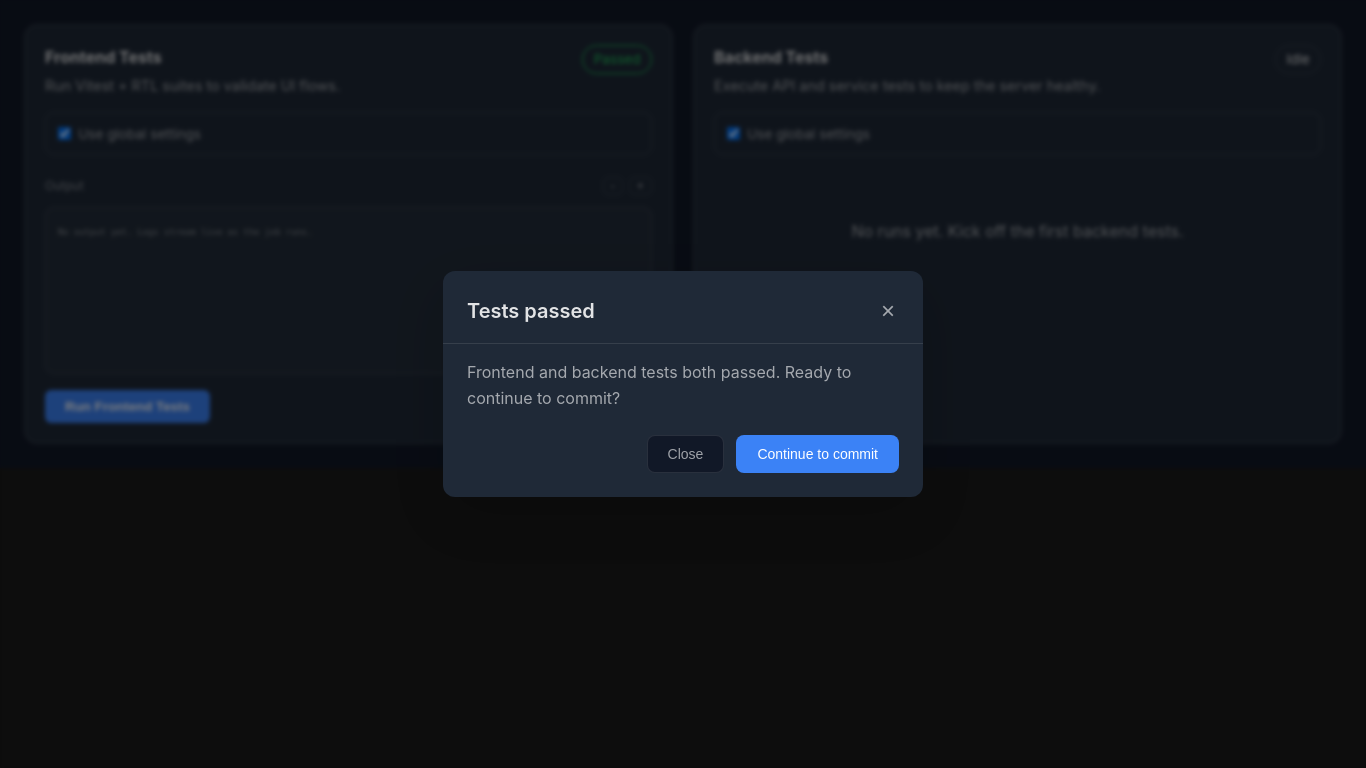
Test: TestTab › shows commit-ready banner after closing commit modal and reopens modal from banner action
The width and height of the screenshot is (1366, 768).
Expected: the heading "Tests passed" is shown, [467,296,595,326]
Click the button "Close" at x=686, y=454, box [647,435,724,473]
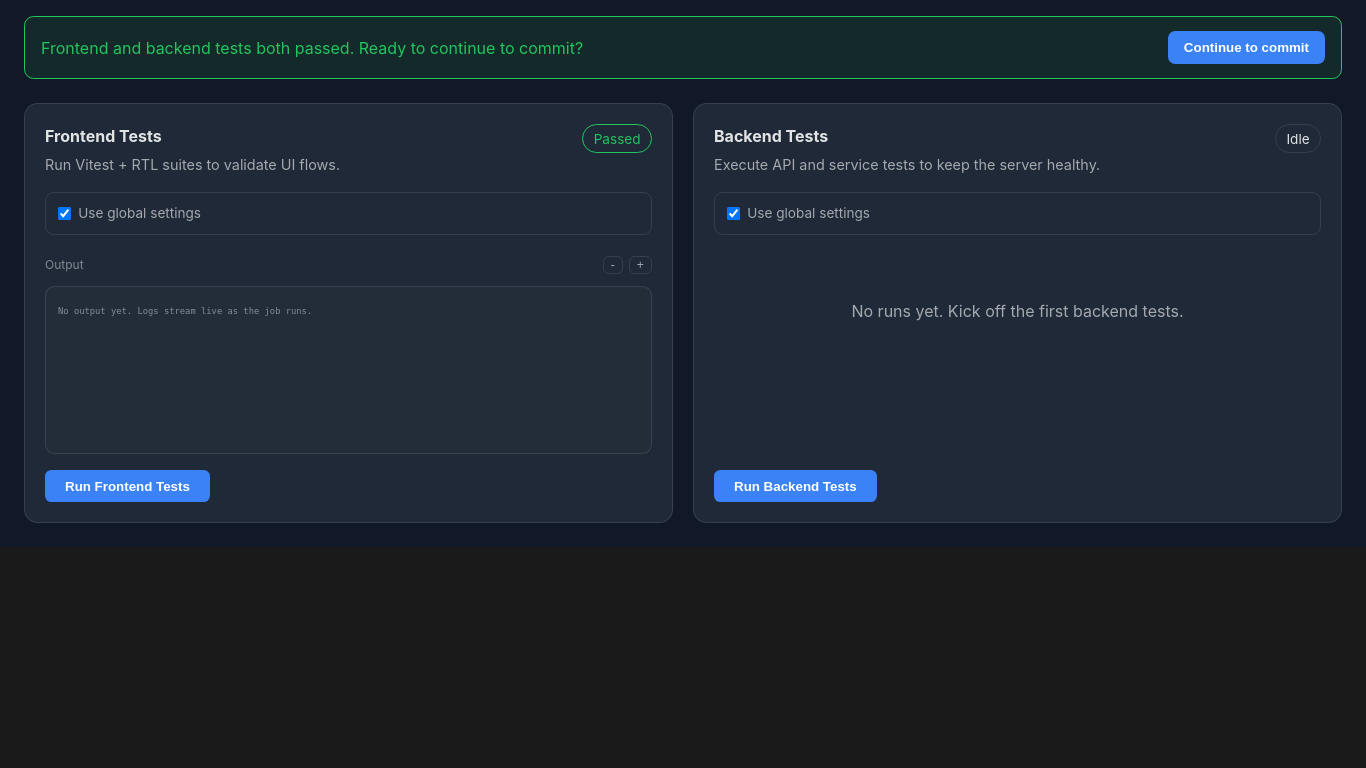
Result: the element with test id "commit-ready-banner" is shown at [24,16,1342,79]
Click the button with test id "commit-ready-button" at x=1246, y=48, box [1168,31,1325,64]
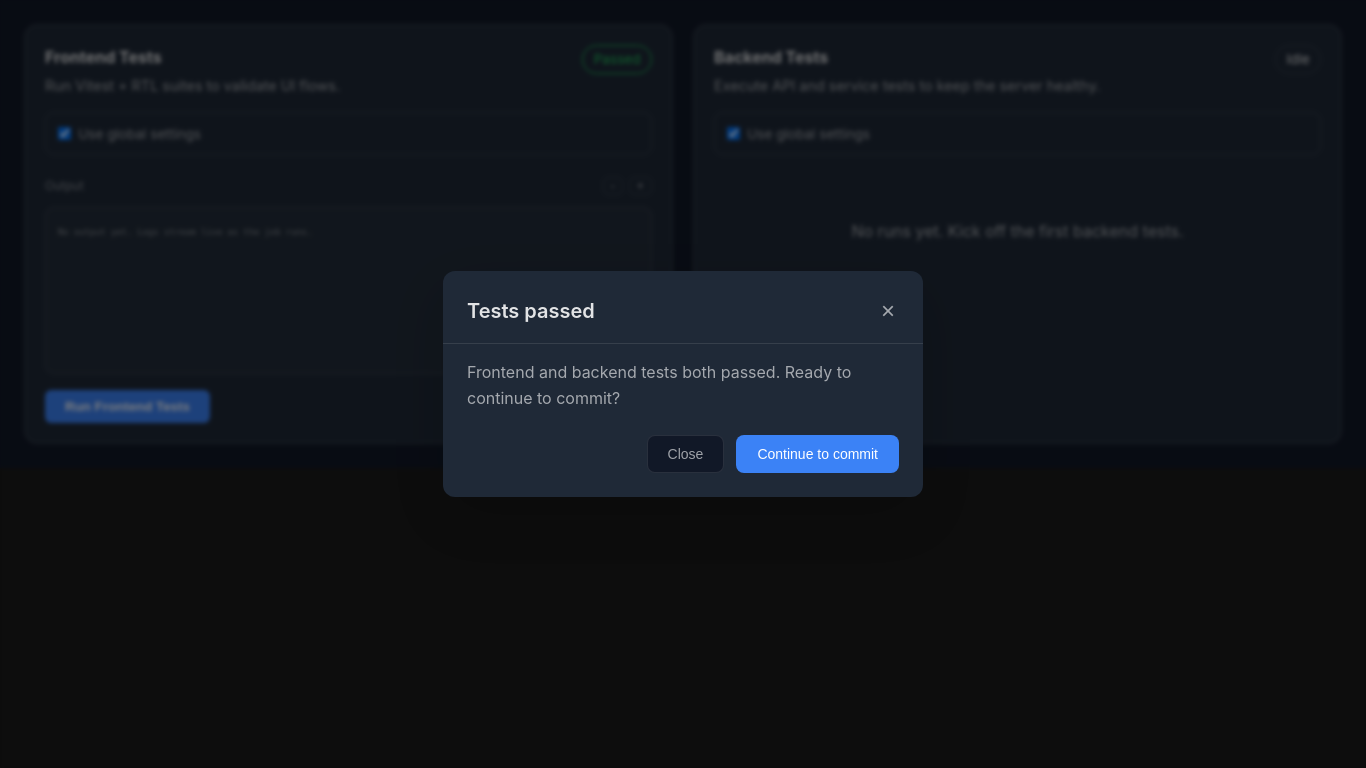
Result: the heading "Tests passed" is shown at [467,296,595,326]
